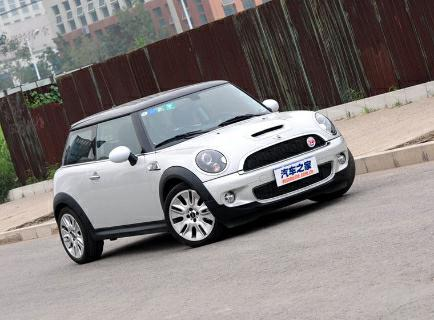MINI: (38, 82, 356, 260)
